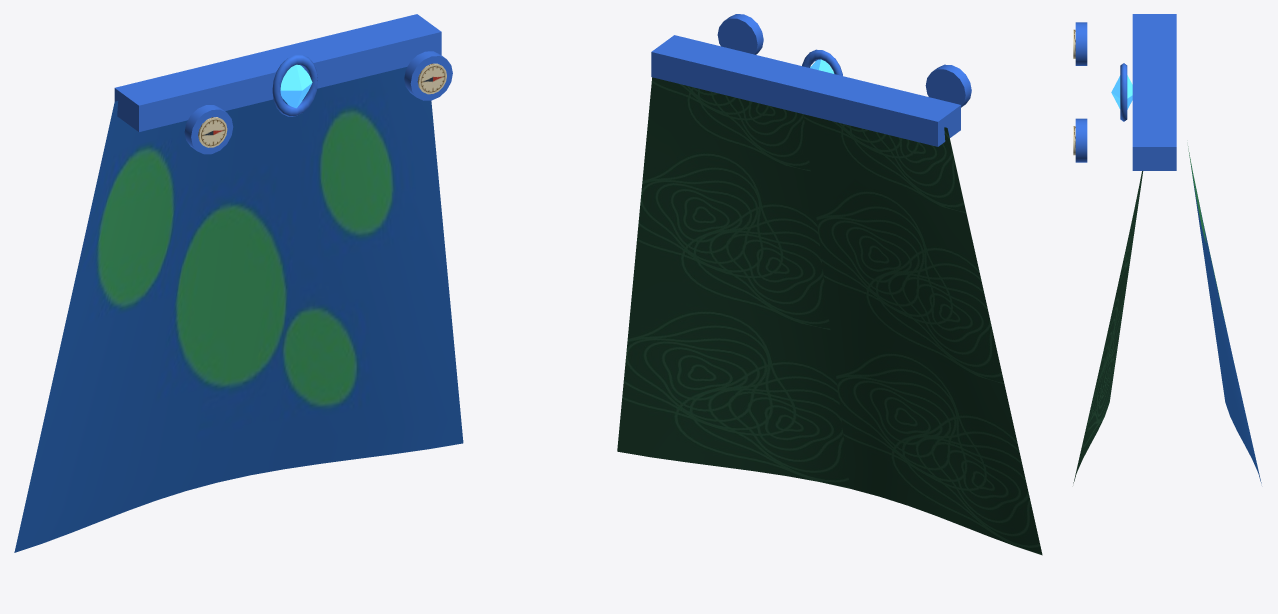
Rendered from back_eqsa1.glb.
3 renders of one model, left to right at view 1: azimuth 30°, elevation 25°; view 2: azimuth 150°, elevation 25°; view 3: azimuth 270°, elevation 25°, orthographic. The views are drawn at different scales.
Bounding box in the file's own units: 3.19 × 3.29 × 1.31.
6 materials, 4 textured.
